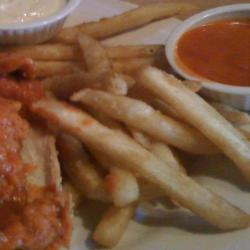fries: (41, 36, 226, 218)
